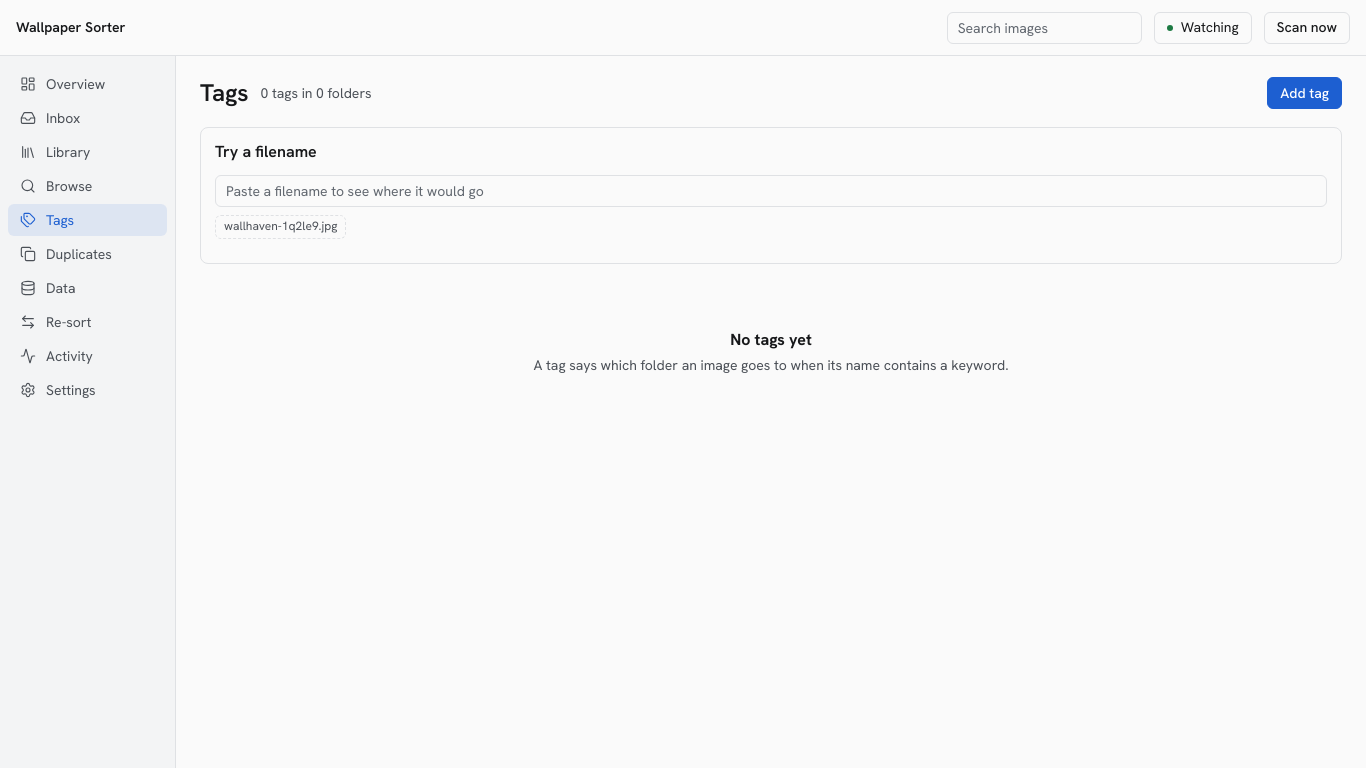
Test: tests a filename and saves a tag
Later steps or results of the test are not shown.
Expected: the heading "Tags" is shown, [200,76,248,111]
Type "nature-one.png" into the field named "Filename to test" at (771, 191), box [215,175,1327,207]
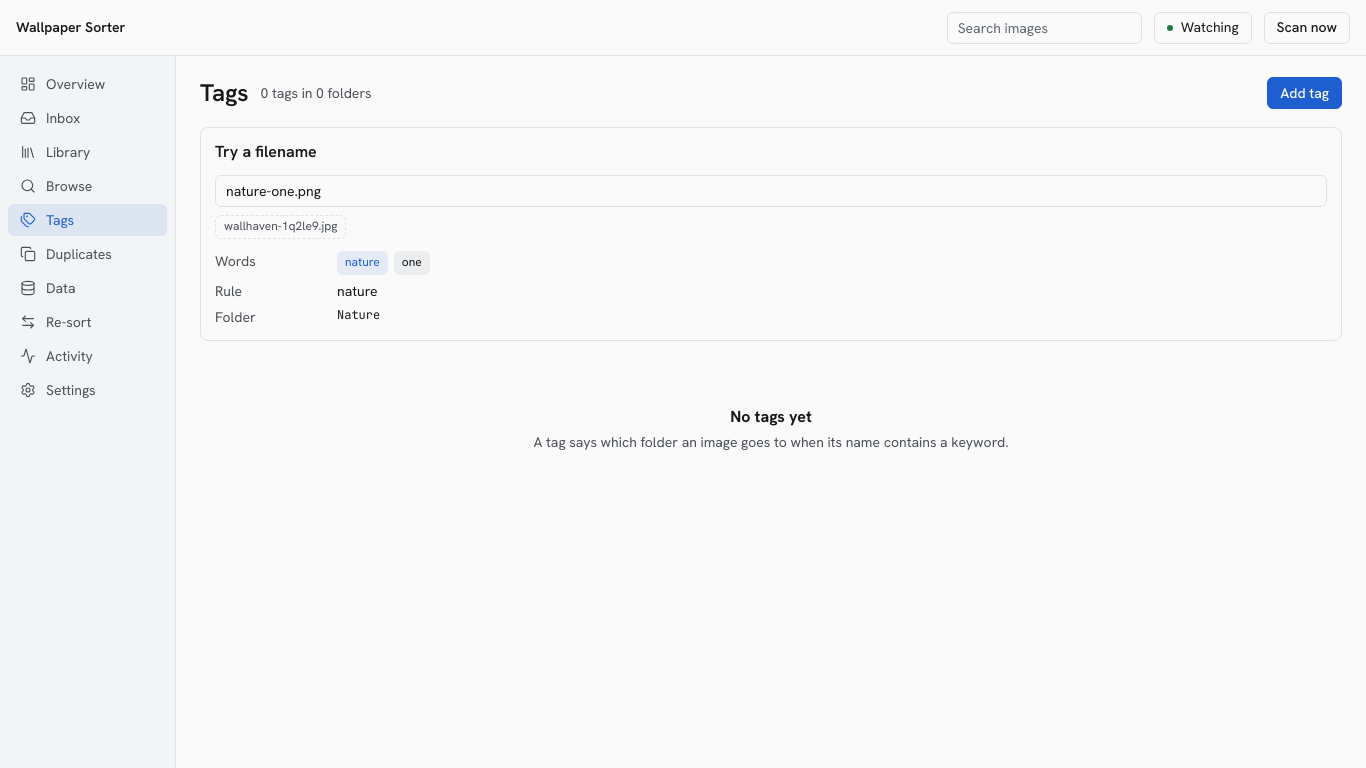
Result: the text "Nature" is shown at [337,307,380,323]
